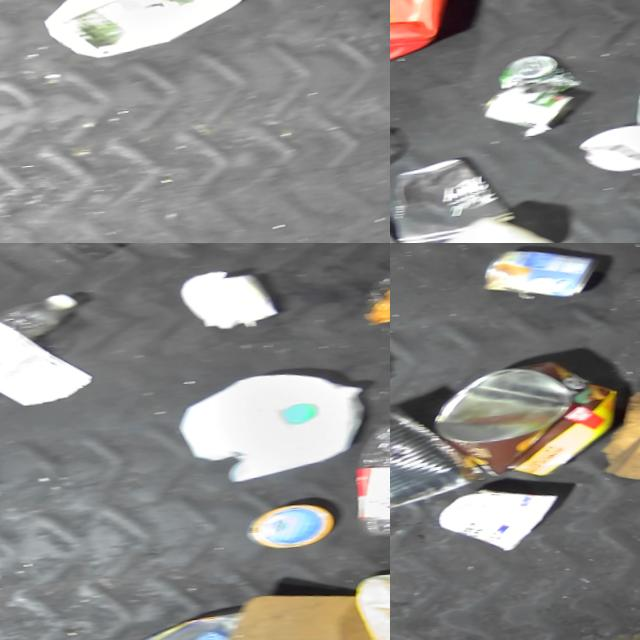can: (430, 356, 626, 491), (390, 399, 478, 540), (479, 243, 600, 309), (480, 81, 583, 144), (497, 53, 581, 92)
milk_jug: (177, 367, 371, 492), (37, 0, 269, 67), (390, 212, 563, 243)
non_white_jug: (390, 0, 458, 83), (103, 614, 243, 640)
plastic_bottle: (0, 292, 78, 385), (350, 399, 390, 544), (245, 503, 340, 559)
